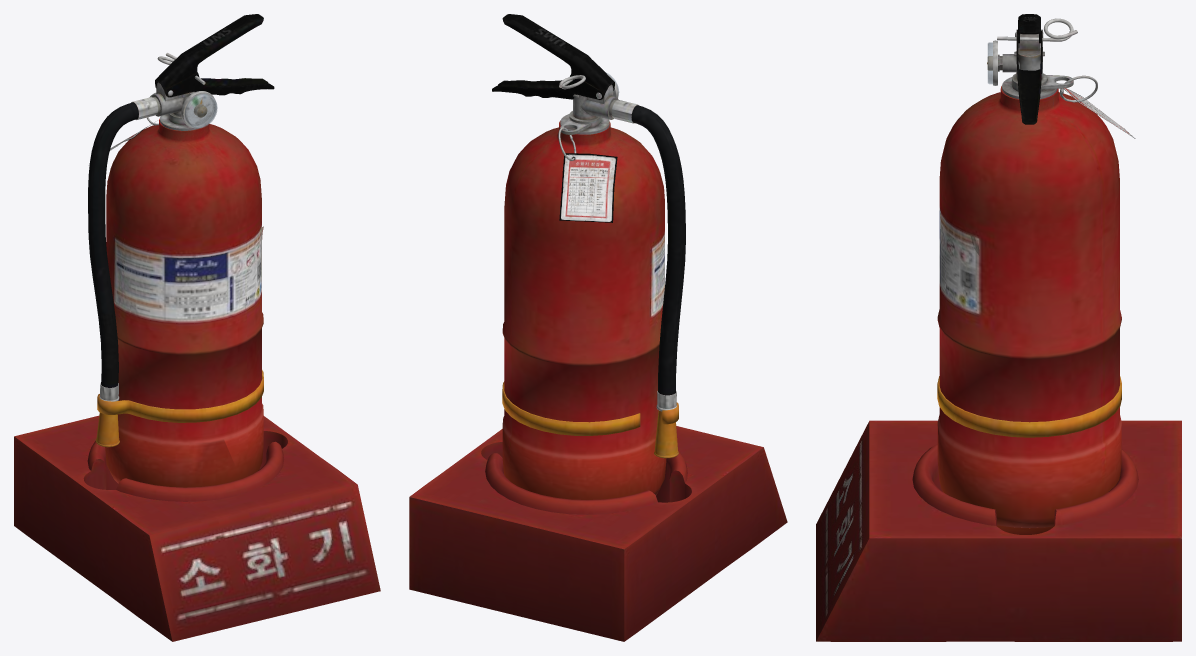
File: korean_fire_extinguisher_01.glb
3 renders of one model, left to right at view 1: azimuth 30°, elevation 25°; view 2: azimuth 150°, elevation 25°; view 3: azimuth 270°, elevation 25°, orthographic. The views are drawn at different scales.
Size of the model in its own units: 0.28 by 0.6593 by 0.3674.
Materials: 3 (3 with a texture image).
